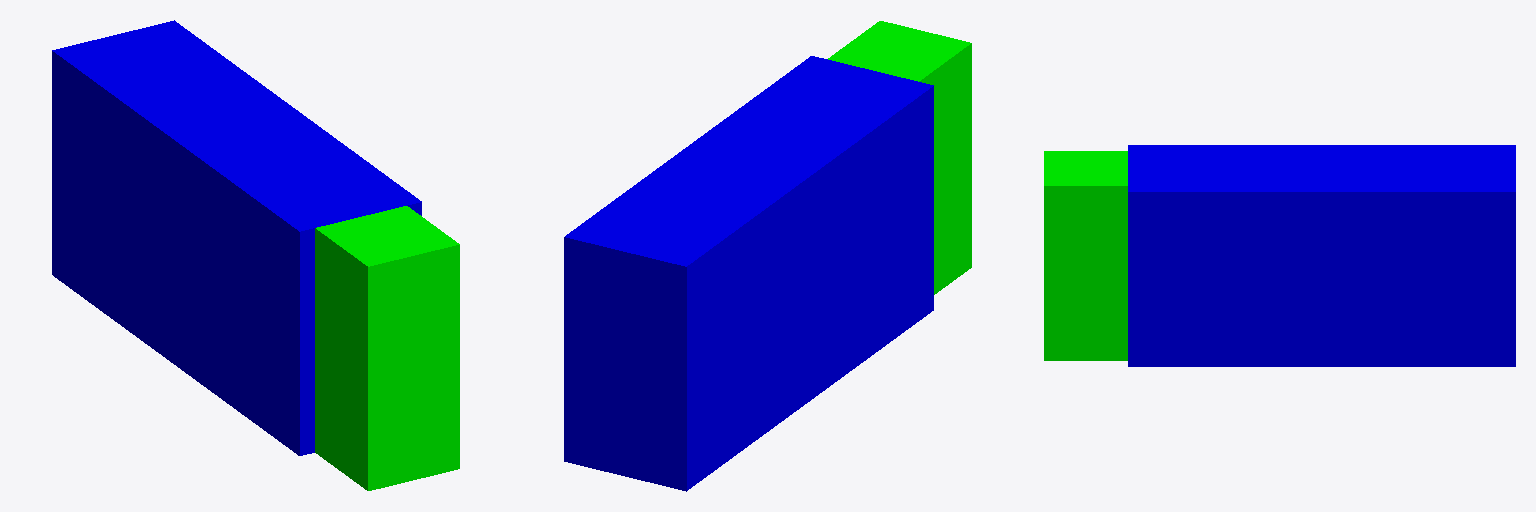
robot.urdf — robot:
<robot name = "robot">
    <link name="root">
        <inertial>
            <origin xyz="0.0 0.0 1.5" rpy="0 0 0"/>
            <mass value="1" />
            <inertia ixx="100" ixy="0" ixz="0" iyy="100" iyz="0" izz="100" />
        </inertial>
        <visual>
            <origin xyz="0.0 0.0 1.5" rpy="0 0 0"/>
            <geometry>
                <box size="0 0 0.0001" />
            </geometry>
            <material name="Green">
                <color rgba="0 1.0 0.0 1.0"/>
            </material>
        </visual>
        <collision>
            <origin xyz="0.0 0.0 1.5" rpy="0 0 0"/>
            <geometry>
                <box size="0 0 0.0001" />
            </geometry>
        </collision>
    </link>
    <joint name="root_000" type="revolute">
       <parent link="root"/>
       <child  link="000"/>
       <origin rpy="0 0 0" xyz="0.0 0.0 1.5" />
     <axis xyz="1 0 0"/>
       <limit effort="0.0" lower="-3.14159" upper="3.14159" velocity="0.0"/>
    </joint>
    <link name="000">
        <inertial>
            <origin xyz="0.0 0.0 -0.35" rpy="0 0 0"/>
            <mass value="1" />
            <inertia ixx="100" ixy="0" ixz="0" iyy="100" iyz="0" izz="100" />
        </inertial>
        <visual>
            <origin xyz="0.0 0.0 -0.35" rpy="0 0 0"/>
            <geometry>
                <box size="0.3 0.3 0.7" />
            </geometry>
            <material name="Green">
                <color rgba="0 1.0 0.0 1.0"/>
            </material>
        </visual>
        <collision>
            <origin xyz="0.0 0.0 -0.35" rpy="0 0 0"/>
            <geometry>
                <box size="0.3 0.3 0.7" />
            </geometry>
        </collision>
    </link>
    <joint name="000_000-100" type="revolute">
       <parent link="000"/>
       <child  link="000-100"/>
       <origin rpy="0 0 0" xyz="0.0 0.15 -0.35" />
     <axis xyz="0 1 0"/>
       <limit effort="0.0" lower="-3.14159" upper="3.14159" velocity="0.0"/>
    </joint>
    <link name="000-100">
        <inertial>
            <origin xyz="0.0 0.35 -0.0" rpy="0 0 0"/>
            <mass value="1" />
            <inertia ixx="100" ixy="0" ixz="0" iyy="100" iyz="0" izz="100" />
        </inertial>
        <visual>
            <origin xyz="0.0 0.35 -0.0" rpy="0 0 0"/>
            <geometry>
                <box size="0.4 0.7 0.7" />
            </geometry>
            <material name="Blue">
                <color rgba="0 0.0 1.0 1.0"/>
            </material>
        </visual>
        <collision>
            <origin xyz="0.0 0.35 -0.0" rpy="0 0 0"/>
            <geometry>
                <box size="0.4 0.7 0.7" />
            </geometry>
        </collision>
    </link>
    <joint name="000-100_000-110" type="revolute">
       <parent link="000-100"/>
       <child  link="000-110"/>
       <origin rpy="0 0 0" xyz="0.0 0.7 -0.0" />
     <axis xyz="0 1 0"/>
       <limit effort="0.0" lower="-3.14159" upper="3.14159" velocity="0.0"/>
    </joint>
    <link name="000-110">
        <inertial>
            <origin xyz="0.0 0.35 -0.0" rpy="0 0 0"/>
            <mass value="1" />
            <inertia ixx="100" ixy="0" ixz="0" iyy="100" iyz="0" izz="100" />
        </inertial>
        <visual>
            <origin xyz="0.0 0.35 -0.0" rpy="0 0 0"/>
            <geometry>
                <box size="0.4 0.7 0.7" />
            </geometry>
            <material name="Blue">
                <color rgba="0 0.0 1.0 1.0"/>
            </material>
        </visual>
        <collision>
            <origin xyz="0.0 0.35 -0.0" rpy="0 0 0"/>
            <geometry>
                <box size="0.4 0.7 0.7" />
            </geometry>
        </collision>
    </link>
</robot>

--- Render facts (derived) ---
The picture shows the robot from 3 angles, left to right: view 1: azimuth 30°, elevation 25°; view 2: azimuth 150°, elevation 25°; view 3: azimuth 270°, elevation 25°; orthographic projection.
Robot: robot — 4 links, 3 joints (3 revolute); root link root; default pose: every joint at zero.
Visible links, largest first — view 1: 000-100, 000-110, 000; view 2: 000-110, 000-100, 000; view 3: 000-100, 000-110, 000.
Link boxes in pixels (x1=…): 000-100: x1=176, y1=111, x2=421, y2=455; 000-110: x1=52, y1=20, x2=297, y2=364; 000: x1=315, y1=206, x2=459, y2=490; 000-110: x1=564, y1=146, x2=809, y2=491; 000-100: x1=689, y1=56, x2=933, y2=400; 000: x1=828, y1=21, x2=971, y2=294; 000-100: x1=1128, y1=145, x2=1321, y2=366; 000-110: x1=1322, y1=145, x2=1515, y2=366; 000: x1=1044, y1=151, x2=1127, y2=360.
Size in the robot's own frame: 0.4 by 1.7 by 0.7 metres.
Geometry: primitives only (box / cylinder / sphere), no mesh files.